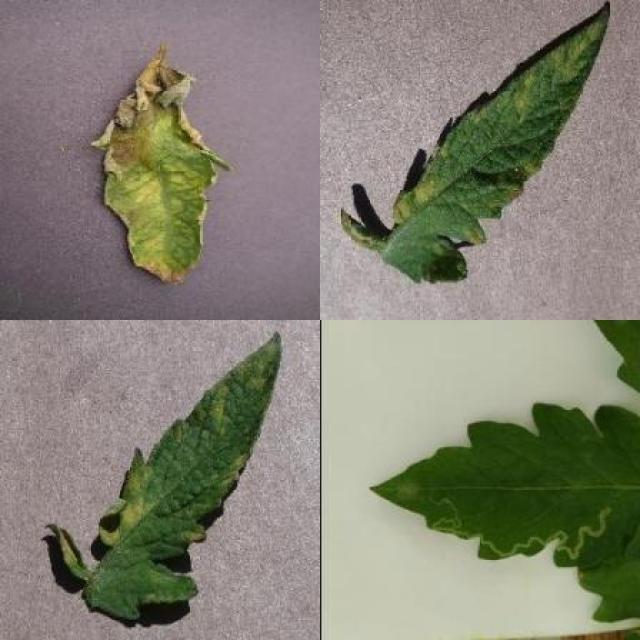Late Blight: (88, 62, 232, 288)
Leaf Miner: (365, 400, 640, 566)
Leaf Mold: (51, 332, 282, 621), (379, 0, 610, 283)
